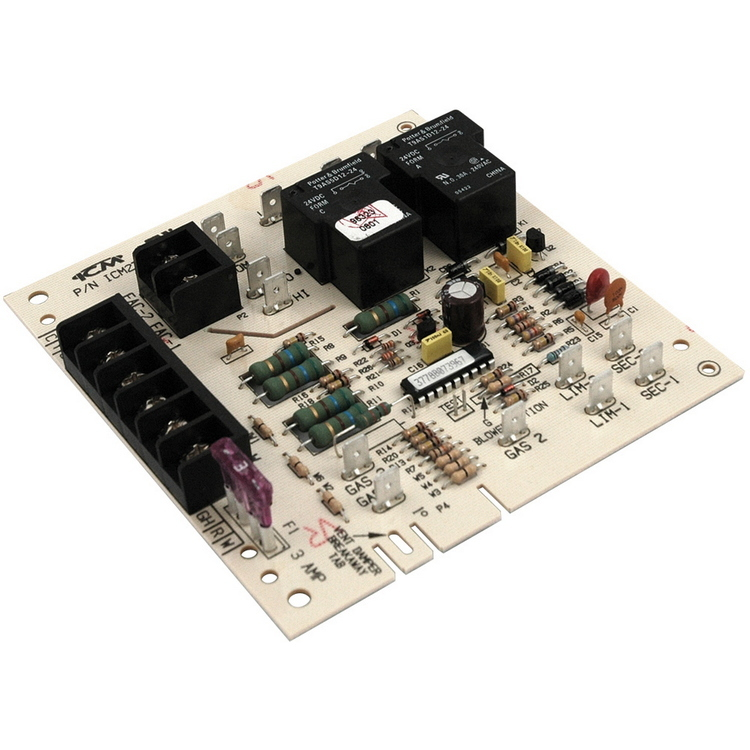capacitor: (431, 274, 503, 355)
